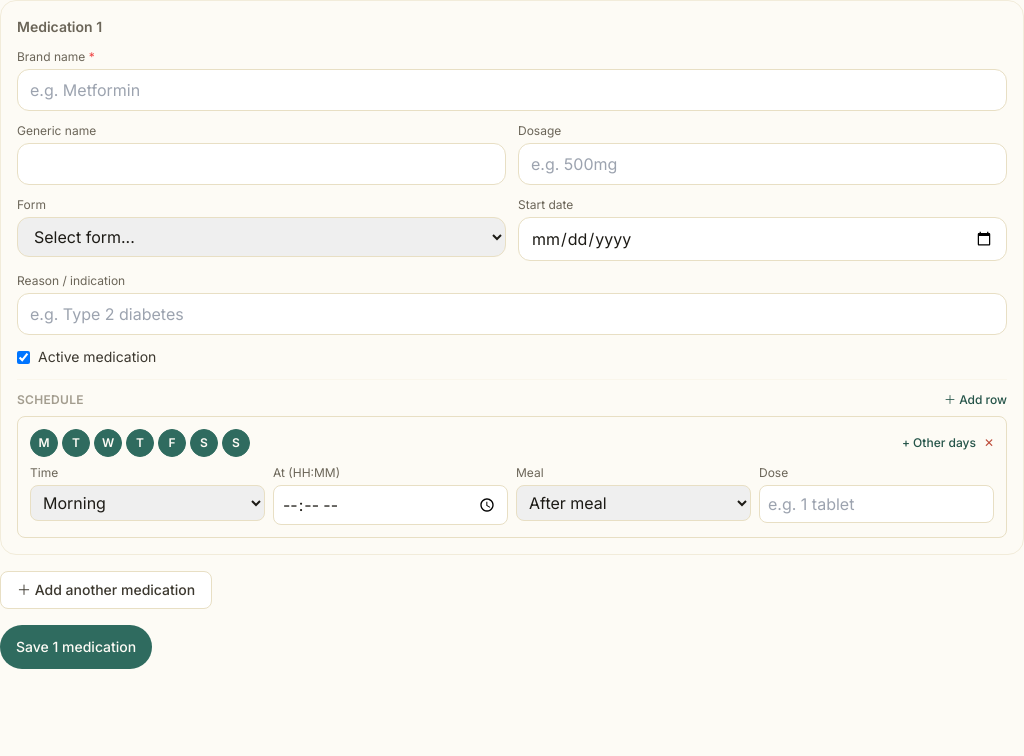
Test: MedicationForm › '+ Other days' on an all-days row splits into Mon–Fri + Sat–Sun rows
Expected: the number of buttons "✕" is 1, [984,435,994,451]
Click the button "+ Other days" at coordinates (939, 443), box [902,435,976,451]
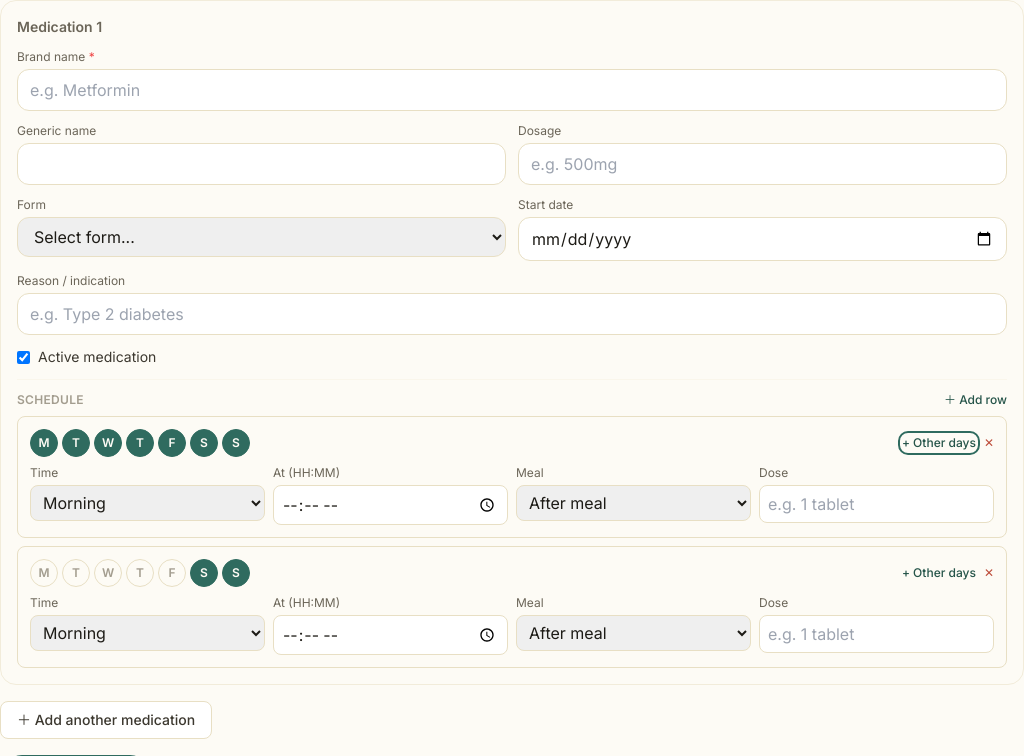
Now the number of buttons "✕" is 2, box [984,435,994,451]; [984,565,994,581]
